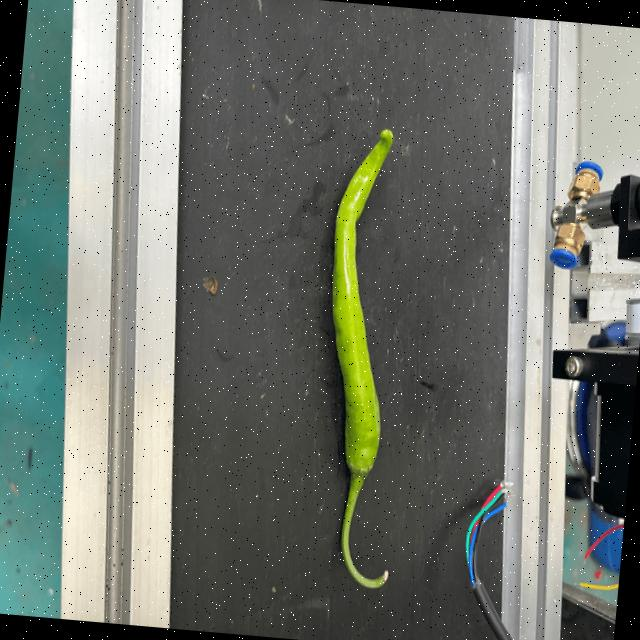chili: (329, 126, 393, 480)
